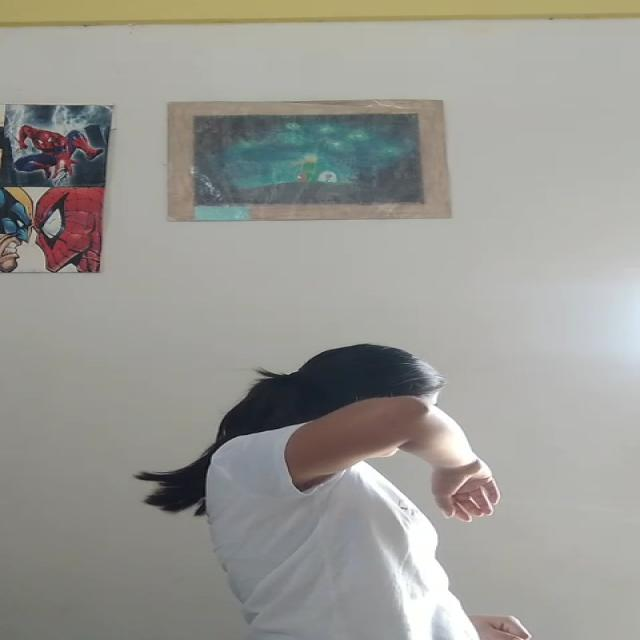7_mano_rostro: (342, 391, 456, 486)
